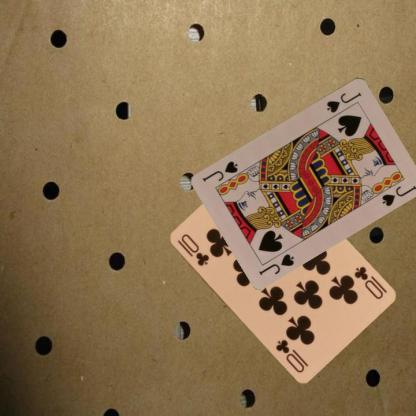10c: (174, 231, 210, 268), (351, 263, 384, 301)
Js: (256, 250, 296, 276), (323, 89, 363, 114)
